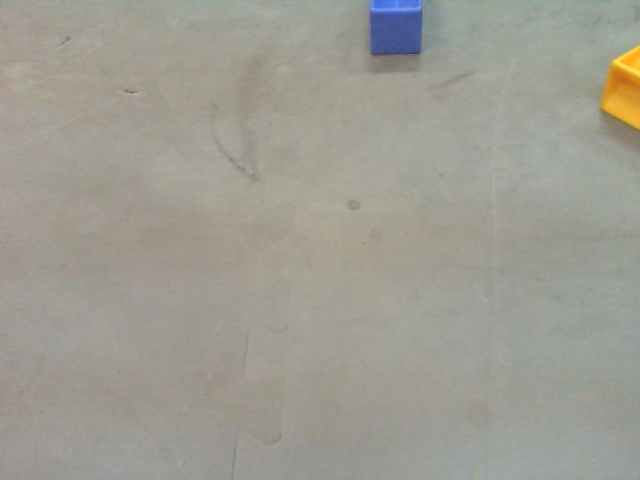BlueSample: (369, 1, 423, 57)
YellowSample: (597, 42, 640, 132)
